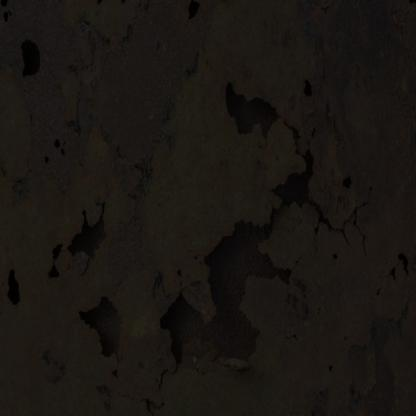burst: (204, 165, 345, 362), (69, 278, 155, 373), (55, 191, 119, 265), (233, 73, 286, 148)
